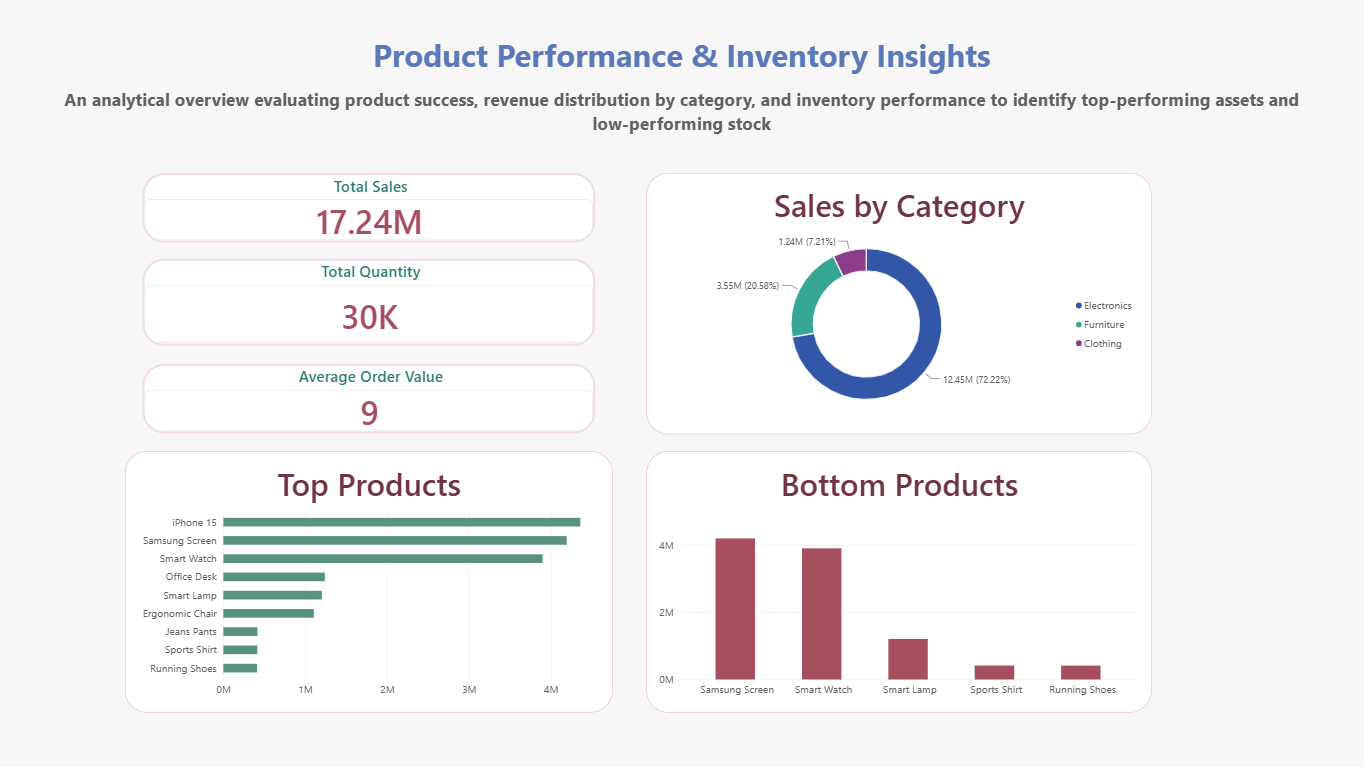

What the dashboard file says about the page in this screenshot:
{"tool":"powerbi","page":{"name":"Product Analysis","canvas":[1920,1080],"ordinal":2},"visuals":[{"type":"cardVisual","title":"Total Sales","fields":{"Data":["FactSales.Total Sales"]},"box":[216,240,624,96],"z":0},{"type":"cardVisual","title":"Average Order Value","fields":{"Data":["DimProduct.Total Products"]},"box":[216,504,624,96],"z":2000},{"type":"cardVisual","title":"Total Quantity","fields":{"Data":["FactSales.Total Quantity"]},"box":[216,360,624,120],"z":3000},{"type":"clusteredBarChart","title":"Top Products","fields":{"Category":["DimProduct.ProductName"],"Y":["FactSales.Total Sales"]},"box":[192,624,672,360],"z":5000},{"type":"donutChart","title":"Sales by Category","fields":{"Category":["DimProduct.Category"],"Y":["FactSales.Total Sales"]},"box":[912,240,696,360],"z":7000},{"type":"clusteredColumnChart","title":"Bottom Products","fields":{"Category":["DimProduct.ProductName"],"Y":["FactSales.Total Sales"]},"box":[912,624,696,360],"z":9000},{"type":"textbox","box":[96,48,1728,168],"z":10000}]}

Visuals, with their boxes in screenshot pixels (x1, y1, x2, y2), scaled from the page's 1920x1080 canvas onto the 1364x767 screenshot:
"Total Sales" cardVisual: [left=153, top=170, right=597, bottom=239]
"Average Order Value" cardVisual: [left=153, top=358, right=597, bottom=426]
"Total Quantity" cardVisual: [left=153, top=256, right=597, bottom=341]
"Top Products" clusteredBarChart: [left=136, top=443, right=614, bottom=699]
"Sales by Category" donutChart: [left=648, top=170, right=1142, bottom=426]
"Bottom Products" clusteredColumnChart: [left=648, top=443, right=1142, bottom=699]
textbox: [left=68, top=34, right=1296, bottom=153]
